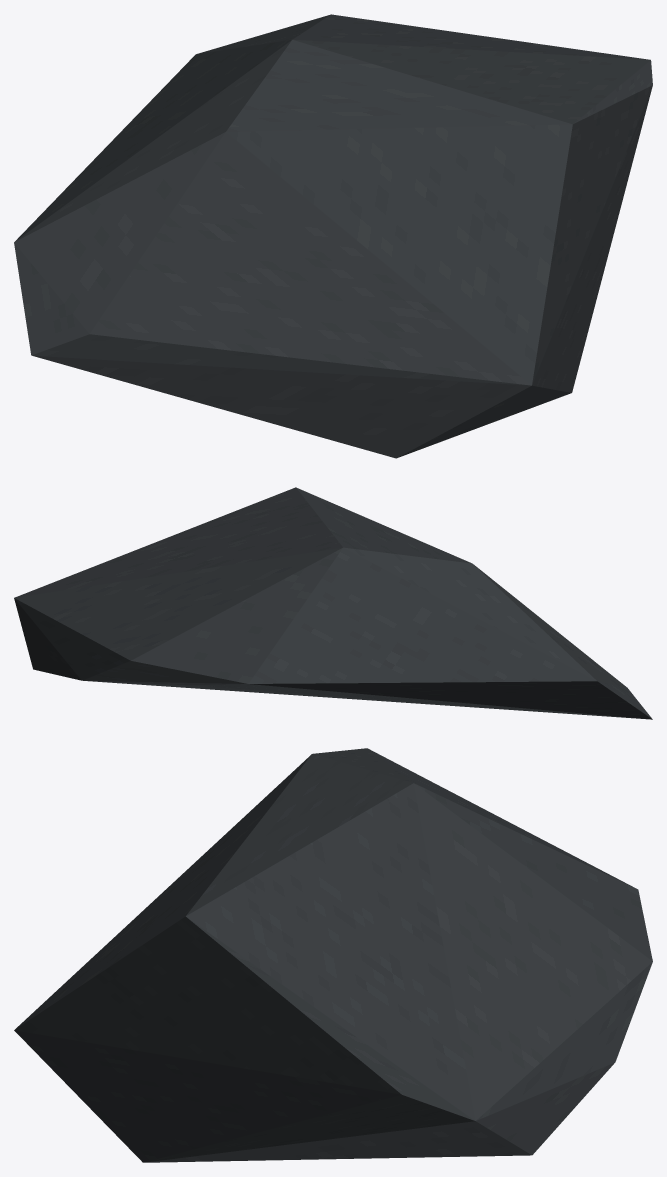
File: chunk_rubber.glb
3 renders of one model, top to bottom at view 1: azimuth 30°, elevation 25°; view 2: azimuth 150°, elevation 25°; view 3: azimuth 270°, elevation 25°, orthographic. The views are drawn at different scales.
Visible parts, largest first — view 1: block_rough fragment; view 2: block_rough fragment; view 3: block_rough fragment.
Part boxes in pixels (bbox=[...]): block_rough fragment: bbox=[14, 14, 652, 458]; block_rough fragment: bbox=[14, 487, 652, 719]; block_rough fragment: bbox=[14, 748, 652, 1162].
Bounding box in the file's own units: 0.1184 × 0.0465 × 0.0884.
Materials: 1 (1 with a texture image).
